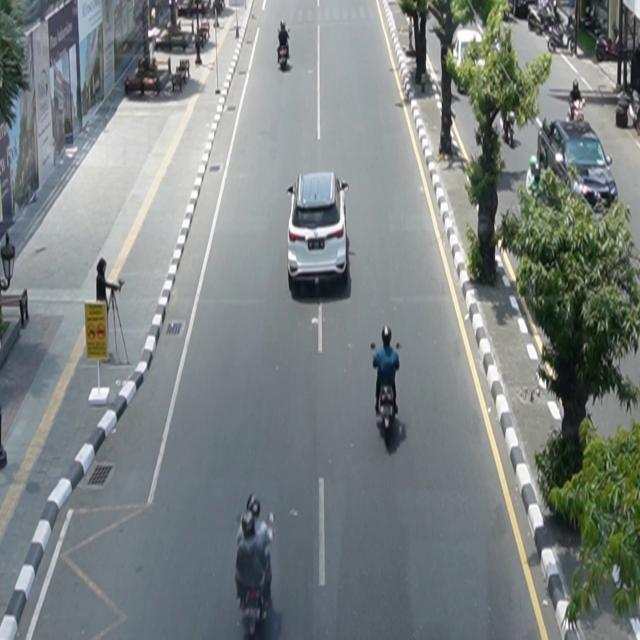car: (537, 116, 619, 210), (287, 172, 350, 283), (449, 26, 491, 95)
